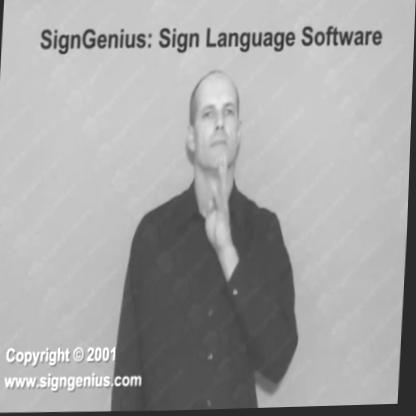Talk: (114, 68, 315, 413)
